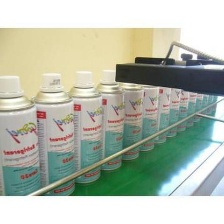aerosol_cans: (27, 69, 78, 199), (0, 71, 42, 210), (63, 65, 107, 187), (89, 64, 128, 175), (112, 68, 144, 162), (133, 68, 162, 153), (147, 64, 173, 147)
